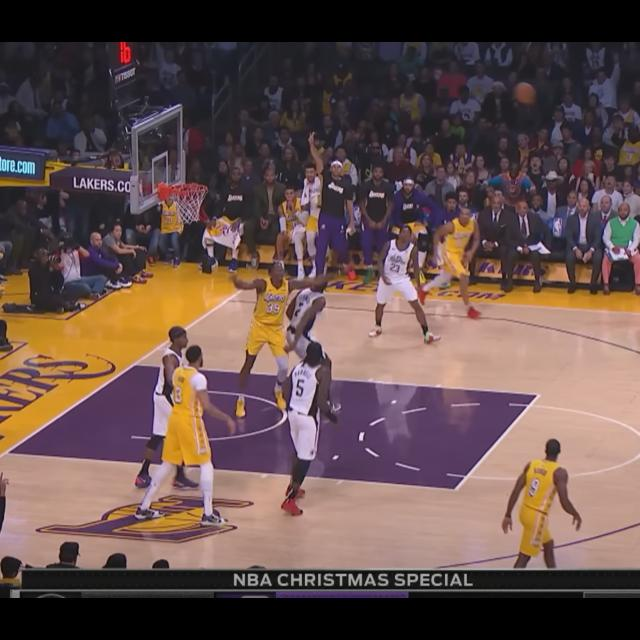basketball: (508, 77, 548, 108)
hoop: (161, 173, 210, 226)
person: (502, 429, 581, 574), (153, 323, 216, 500), (161, 344, 221, 526), (238, 255, 292, 418), (281, 345, 329, 513), (372, 224, 435, 349), (285, 274, 336, 416), (435, 209, 484, 324)
